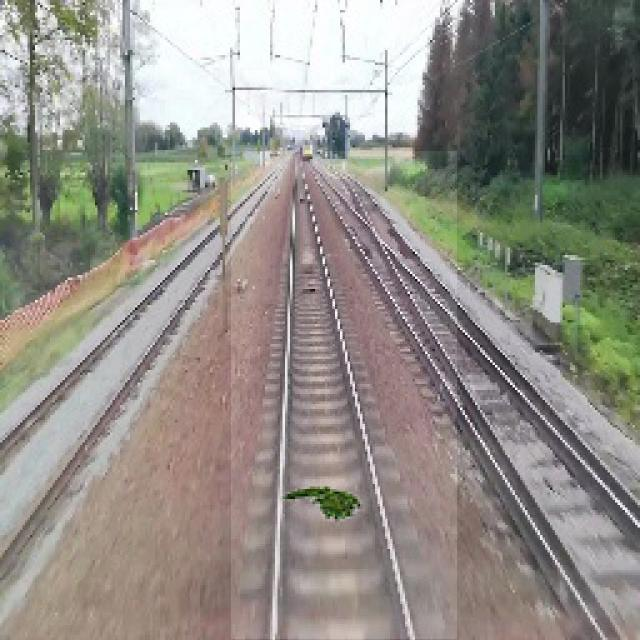rail: (232, 153, 458, 640)
